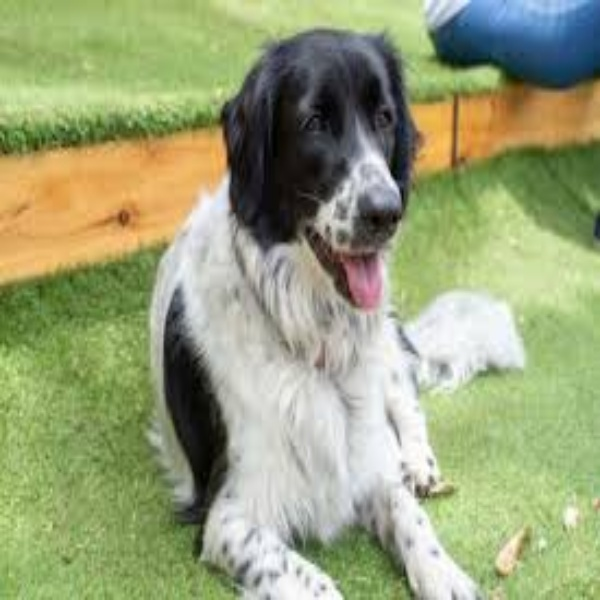dog: (137, 11, 488, 600)
